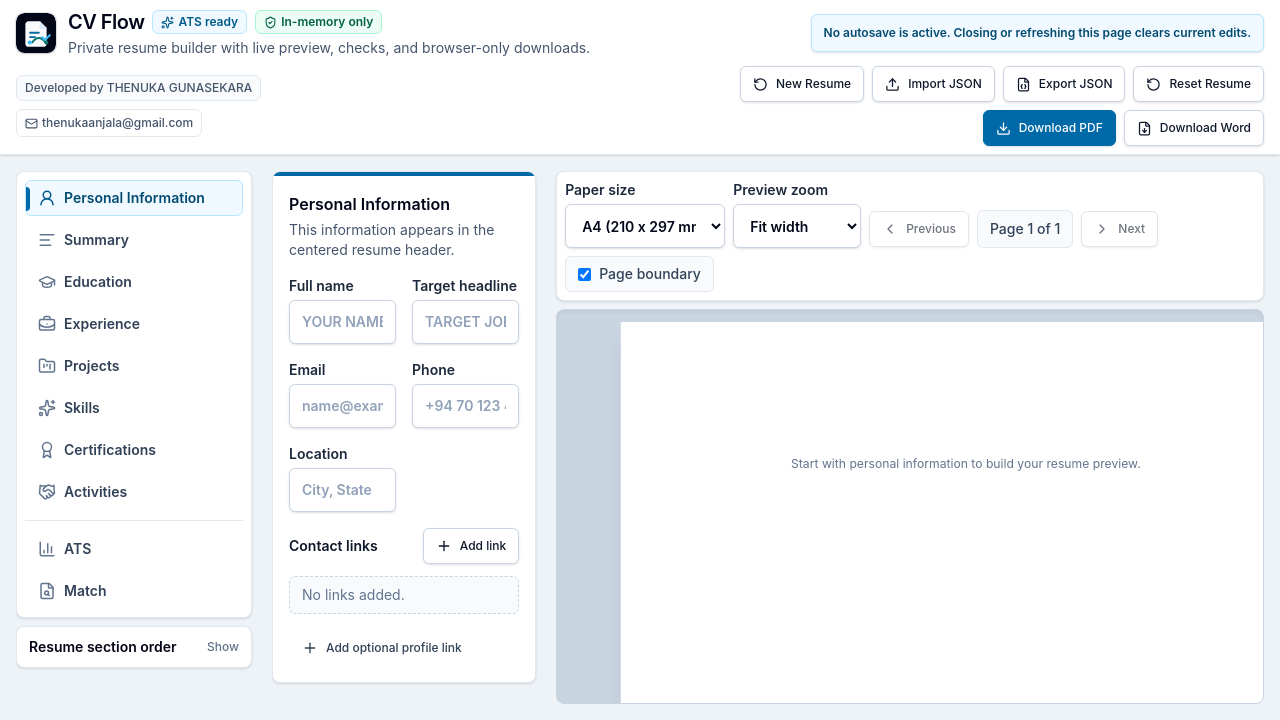
it: ResumeBuilder browser workflows › closes confirmation popups from the cross icon
Step 1. Click the button "Reset Resume" → (1199, 84), box [1134, 66, 1264, 102]
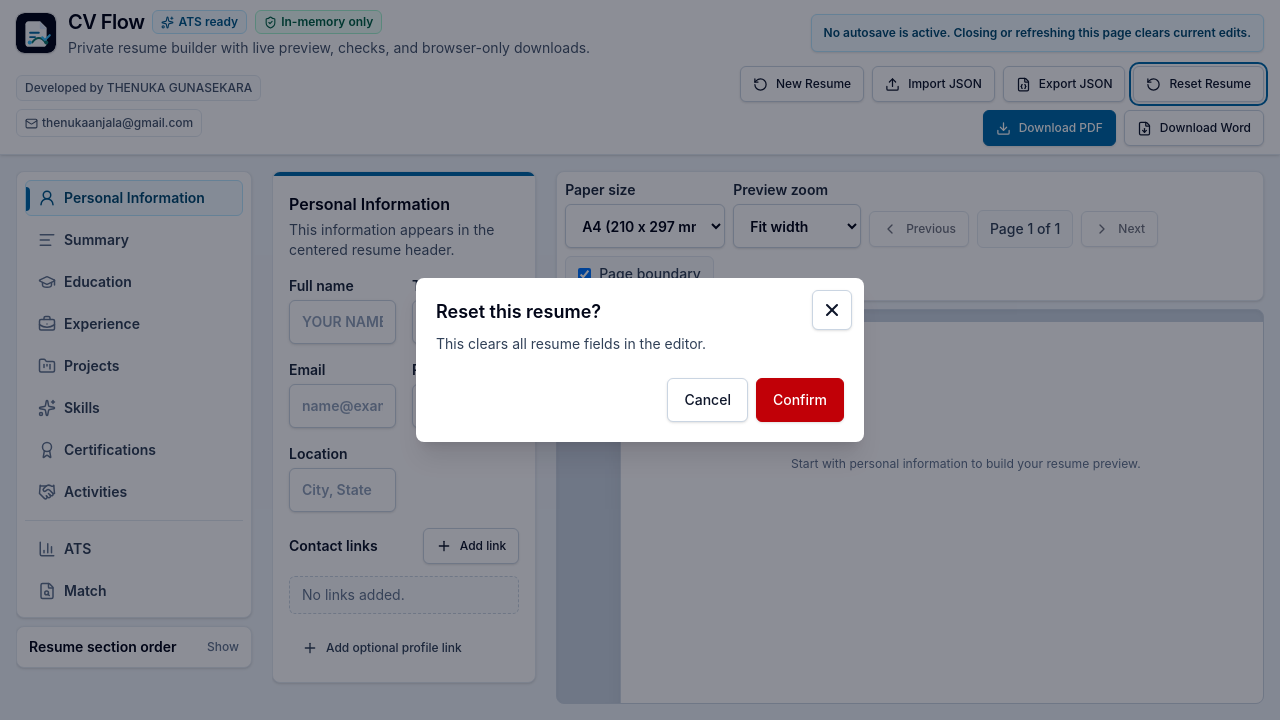
Step 2. Click the button named "Close dialog" → (832, 310), box [812, 290, 852, 330]
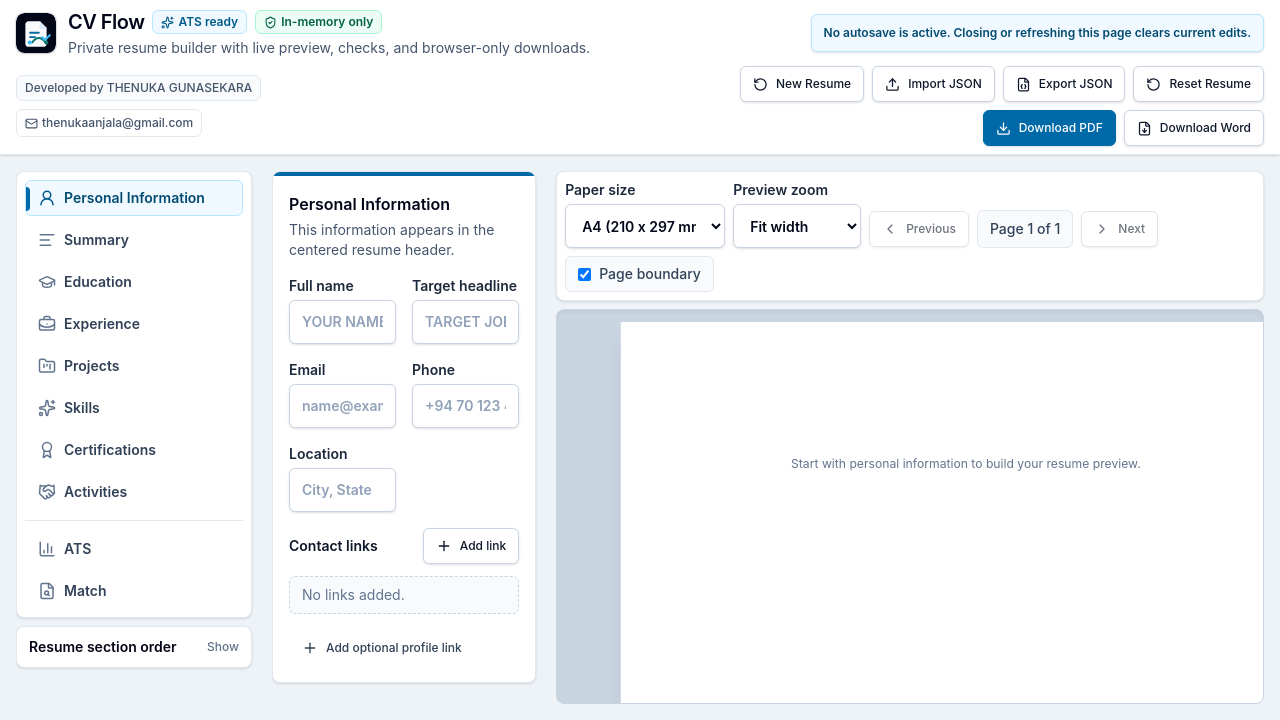
Result: the heading "Reset this resume?" is gone
